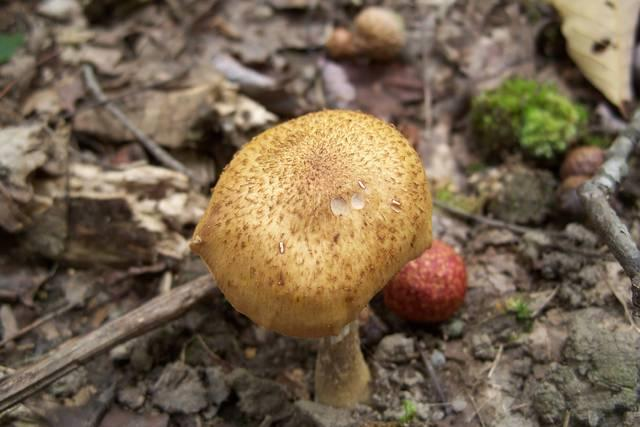Edible Mushroom: (188, 107, 433, 408)
